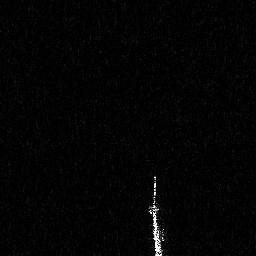ship: (144, 172, 167, 256)
